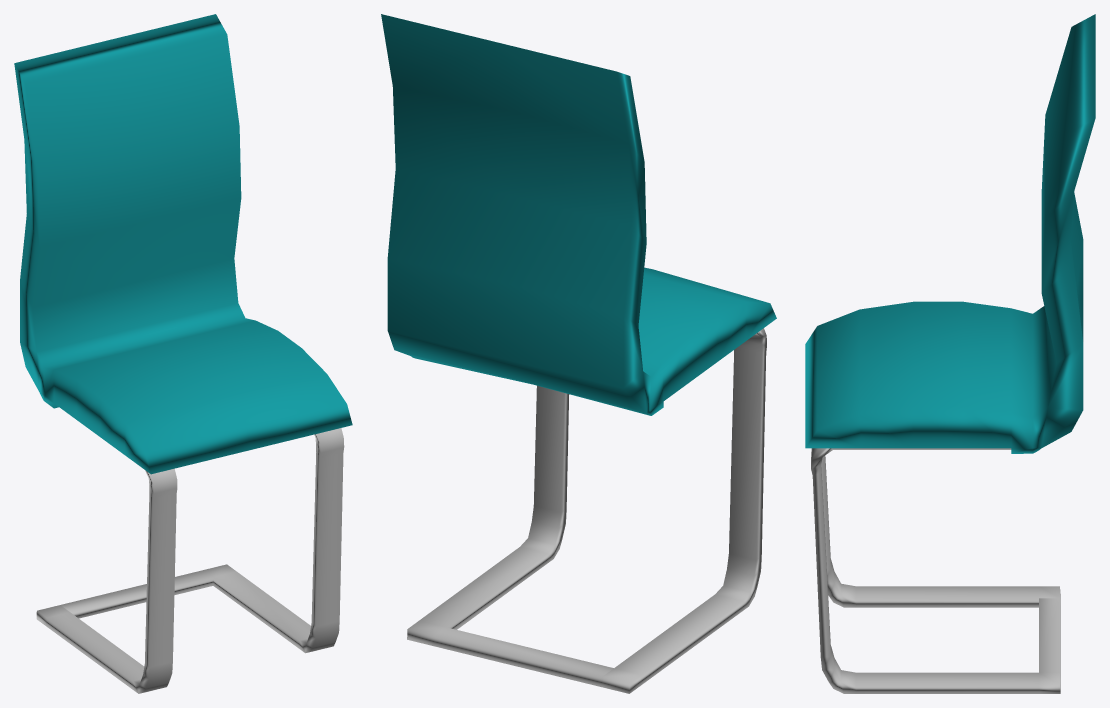
The model's file is cantileverchair_blue.fbx.
3 views of the same model, side by side, from view 1: azimuth 30°, elevation 25°; view 2: azimuth 150°, elevation 25°; view 3: azimuth 270°, elevation 25° (orthographic). The views are drawn at different scales.
Visible parts, largest first — view 1: polySurface1; view 2: polySurface1; view 3: polySurface1.
Boxes of the visible parts, x1=… form: polySurface1: x1=14, y1=14, x2=352, y2=693; polySurface1: x1=381, y1=14, x2=776, y2=693; polySurface1: x1=805, y1=14, x2=1095, y2=693.
Size of the model in its own units: 1.81 by 4.68 by 2.13.
